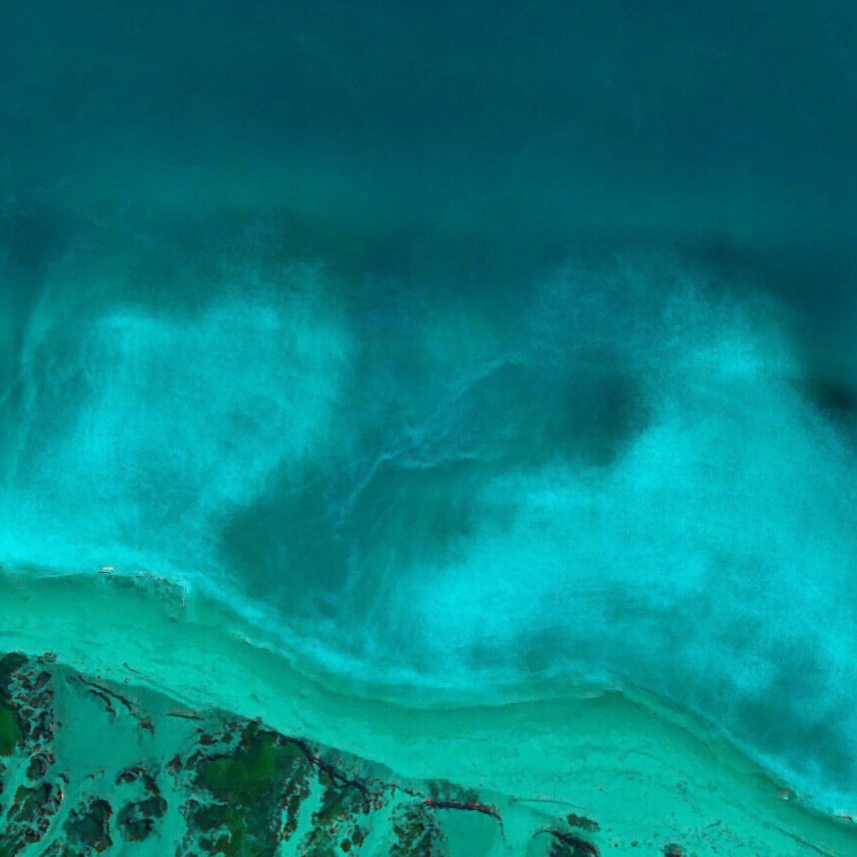rip_current: (218, 221, 638, 651)
